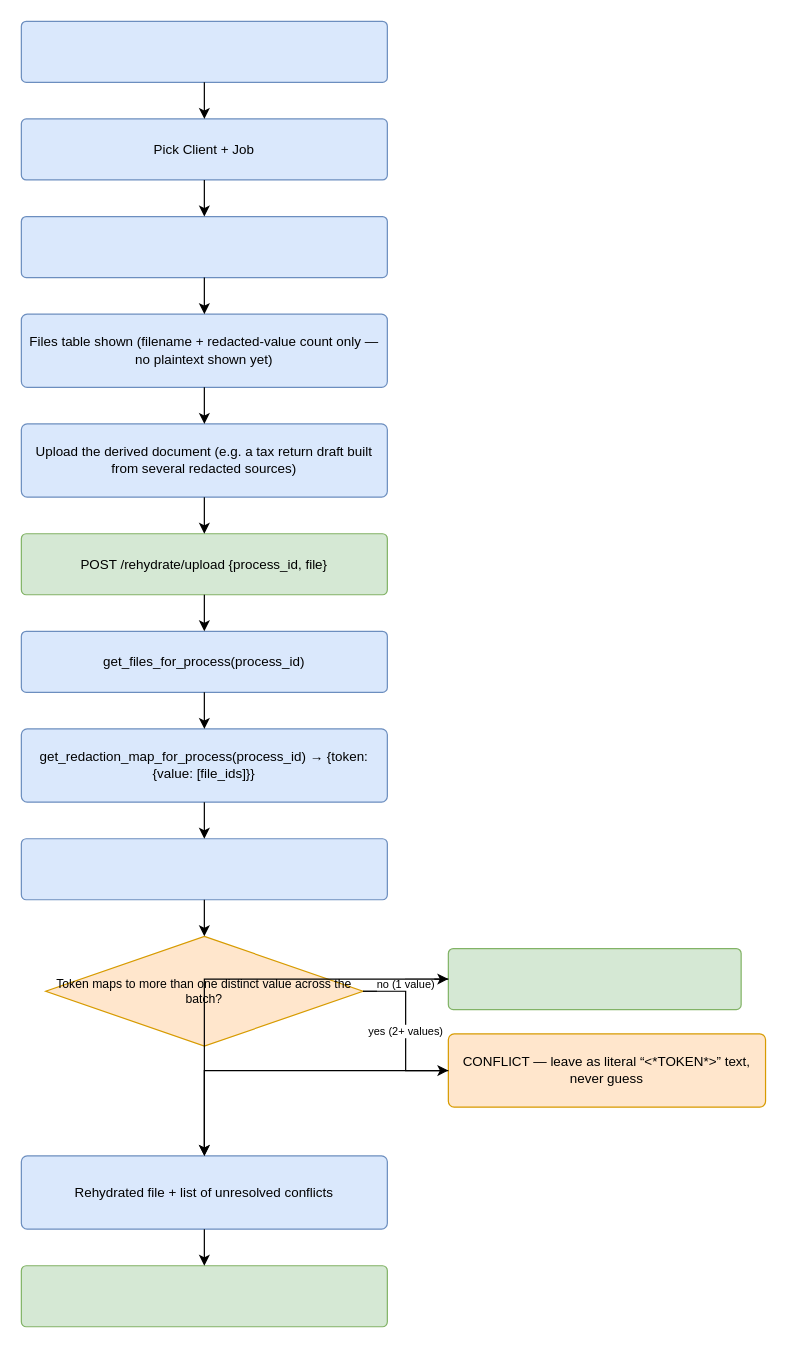
Image size: 787x1348. Some labels were removed from this diagram. The shapes that lost their labels are listed below. From the top down, each one's box as (x1, y1, x2, y2) in pixels, then its label:
(20, 20, 387, 82): User opens /rehydrate
(20, 215, 387, 278): GET /api/processes Pick a Process Name
(20, 838, 387, 900): Scan the upload for every token string actually present
(447, 947, 741, 1010): SAFE — substitute normally
(20, 1265, 387, 1327): Download + X-Rehydrate-Warnings header (if any conflicts)
